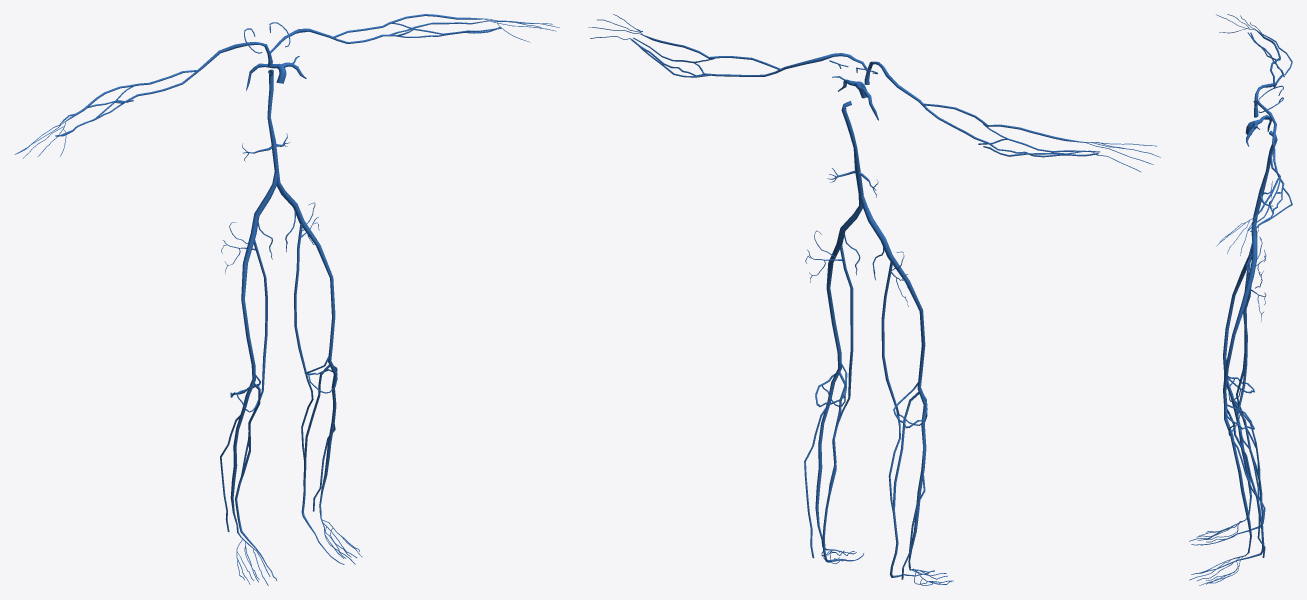
File: xueguan_lanse.FBX
The picture shows the model from 3 angles, left to right: view 1: azimuth 30°, elevation 25°; view 2: azimuth 150°, elevation 25°; view 3: azimuth 270°, elevation 25°; orthographic projection. The views are drawn at different scales.
Parts seen in each view (by area): view 1: Circulatory_Veins; view 2: Circulatory_Veins; view 3: Circulatory_Veins.
Boxes of the visible parts, bbox=[...] form: Circulatory_Veins: bbox=[14, 14, 559, 585]; Circulatory_Veins: bbox=[588, 14, 1160, 585]; Circulatory_Veins: bbox=[1189, 14, 1292, 585].
Bounding box in the file's own units: 170 × 155 × 31.02.
